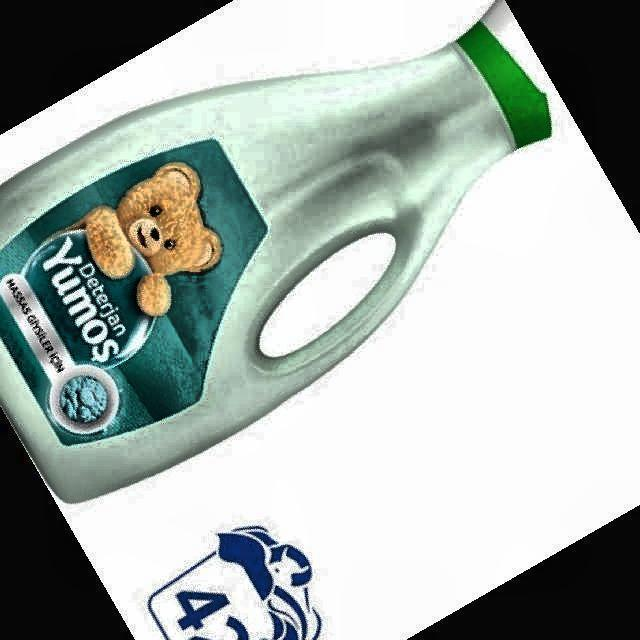plastic: (0, 5, 550, 501)
